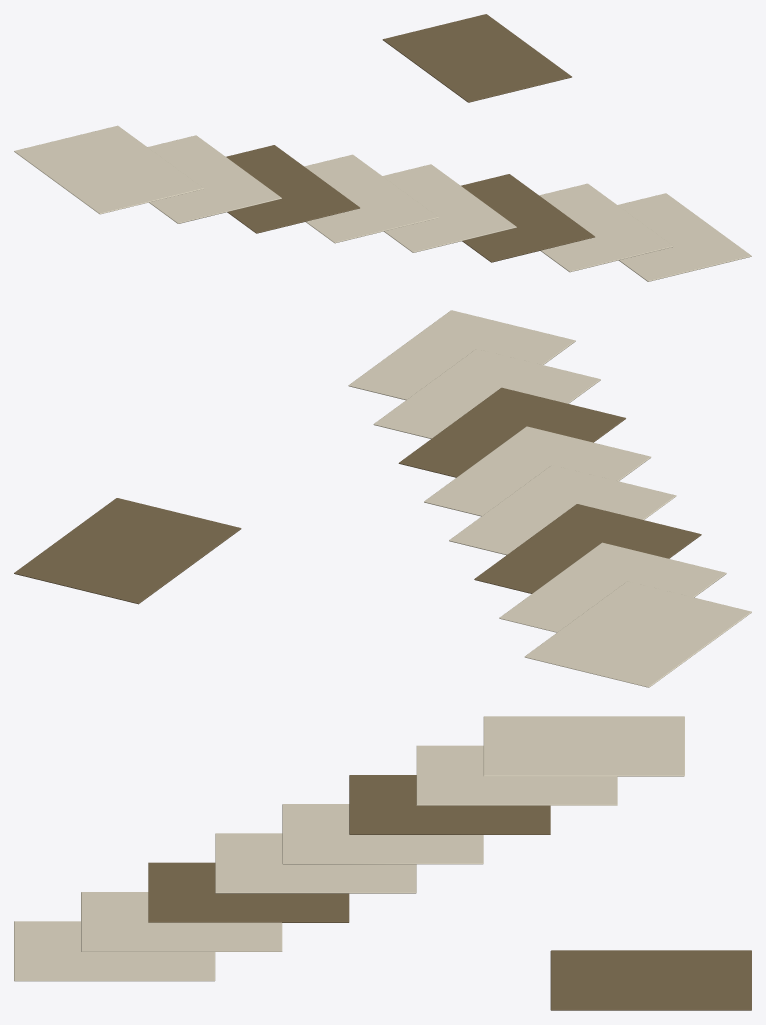
The model's file is SM_PRP_PapeisChao.fbx.
3 renders of one model, top to bottom at view 1: azimuth 30°, elevation 25°; view 2: azimuth 150°, elevation 25°; view 3: azimuth 270°, elevation 25°, orthographic. The views are drawn at different scales.
Visible parts, largest first — view 1: SM_PRP_PapeisChao; view 2: SM_PRP_PapeisChao; view 3: SM_PRP_PapeisChao.
Part boxes in pixels (x1=…): SM_PRP_PapeisChao: x1=14, y1=14, x2=751, y2=281; SM_PRP_PapeisChao: x1=14, y1=310, x2=751, y2=687; SM_PRP_PapeisChao: x1=14, y1=716, x2=751, y2=1010.
Size of the model in its own units: 1.01 by 0.014 by 1.1.
